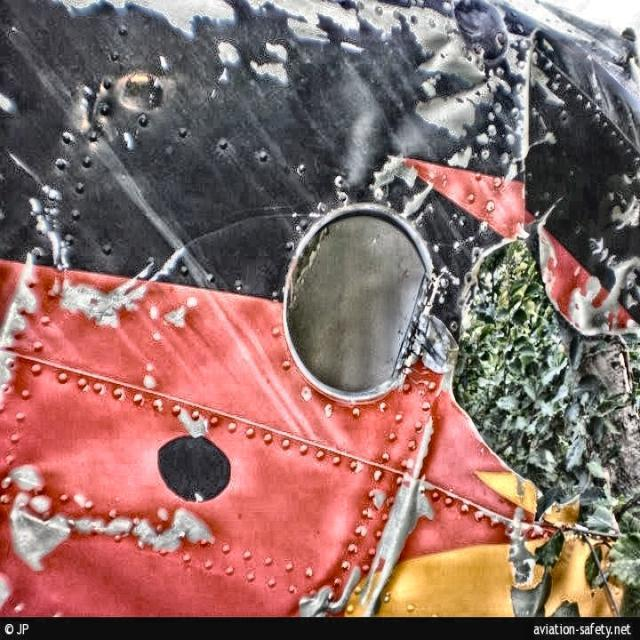dent: (1, 414, 167, 515), (289, 61, 419, 188)
